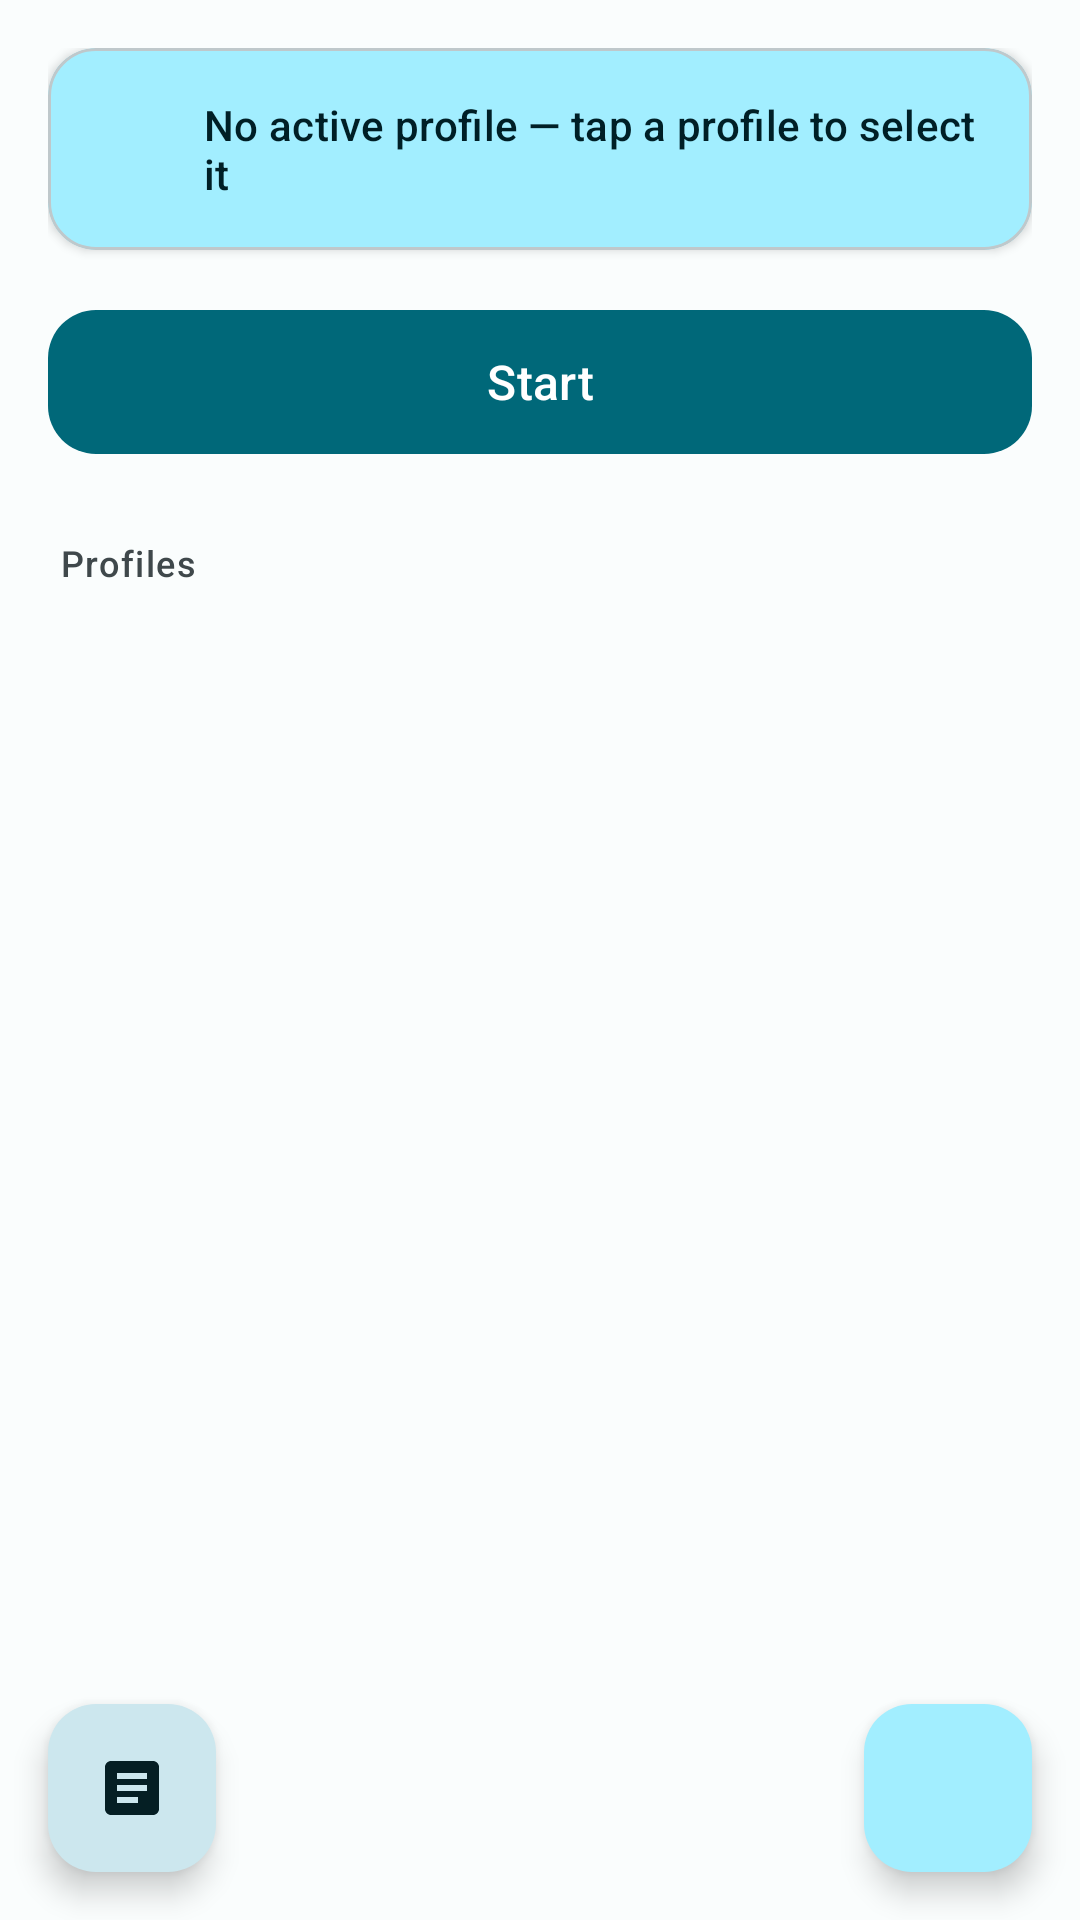

Where to tap for icons on this 1080w x 1920h app screen, as point (x, y):
Logs: point (132, 1788)
